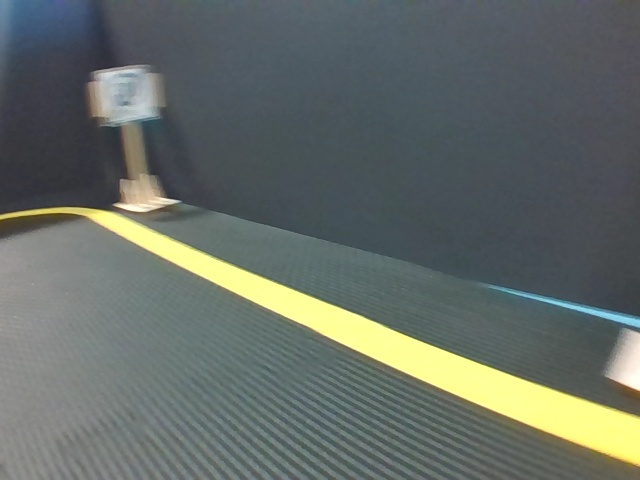no30: (99, 69, 154, 120)
